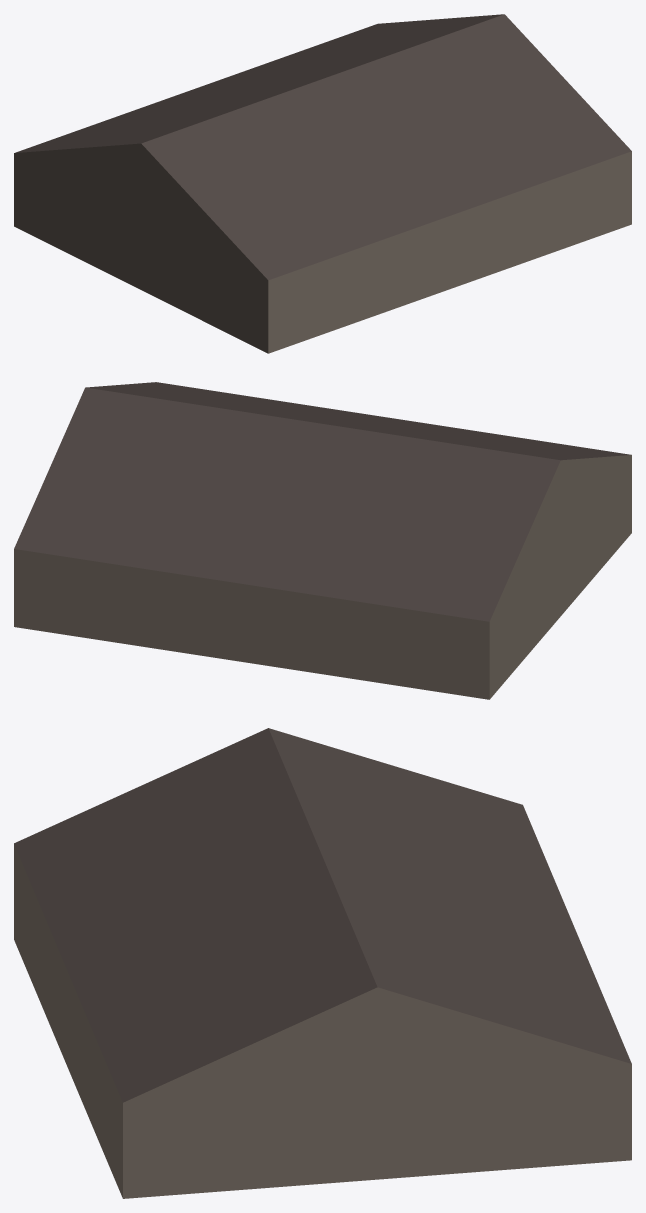
3 renders of one model, top to bottom at view 1: azimuth 30°, elevation 25°; view 2: azimuth 150°, elevation 25°; view 3: azimuth 270°, elevation 25°, orthographic. The views are drawn at different scales.
Visible parts, largest first — view 1: HP-w553893872; view 2: HP-w553893872; view 3: HP-w553893872.
Boxes of the visible parts, x1,y1,x2,y2 form: HP-w553893872: [14, 14, 631, 353]; HP-w553893872: [14, 382, 631, 699]; HP-w553893872: [14, 728, 631, 1198].
Bounding box in the file's own units: 19.93 × 6 × 17.47.
